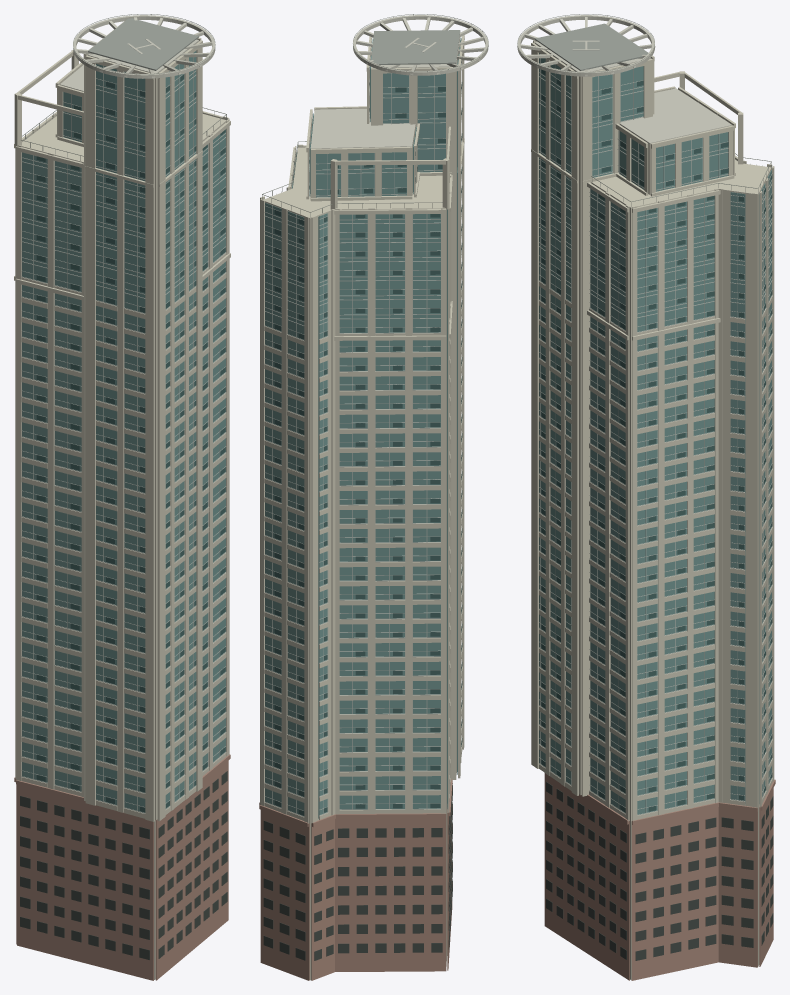
File: bespoke-mokdong-trapalace-eastern-b.glb
The picture shows the model from 3 angles, left to right: view 1: azimuth 30°, elevation 25°; view 2: azimuth 150°, elevation 25°; view 3: azimuth 270°, elevation 25°; orthographic projection. The views are drawn at different scales.
Visible parts, largest first — view 1: 이스턴_B_stone_and_green_window_bays002, 이스턴_B_stone_and_green_window_bays002_1, 이스턴_B_stone_and_green_window_bays002_4, 이스턴_B_stone_and_green_window_bays002_3, 이스턴_B_stone_and_green_window_bays002_2, 이스턴_B_stone_and_green_window_bays002_5, 이스턴_B_roofplan_body, 이스턴_B_stepped_crown_and_round_helipad002_1, 이스턴_B_stepped_crown_and_round_helipad002_2, 이스턴_B_stepped_crown_and_round_helipad002, 이스턴_B_stepped_crown_and_round_helipad002_3; view 2: 이스턴_B_stone_and_green_window_bays002, 이스턴_B_stone_and_green_window_bays002_1, 이스턴_B_stone_and_green_window_bays002_4, 이스턴_B_stone_and_green_window_bays002_3, 이스턴_B_roofplan_body, 이스턴_B_stone_and_green_window_bays002_5, 이스턴_B_stone_and_green_window_bays002_2, 이스턴_B_stepped_crown_and_round_helipad002_1, 이스턴_B_stepped_crown_and_round_helipad002_2, 이스턴_B_stepped_crown_and_round_helipad002, 이스턴_B_stepped_crown_and_round_helipad002_3; view 3: 이스턴_B_stone_and_green_window_bays002, 이스턴_B_stone_and_green_window_bays002_1, 이스턴_B_stone_and_green_window_bays002_4, 이스턴_B_stone_and_green_window_bays002_3, 이스턴_B_roofplan_body, 이스턴_B_stone_and_green_window_bays002_5, 이스턴_B_stone_and_green_window_bays002_2, 이스턴_B_stepped_crown_and_round_helipad002_1, 이스턴_B_stepped_crown_and_round_helipad002_2, 이스턴_B_stepped_crown_and_round_helipad002, 이스턴_B_stepped_crown_and_round_helipad002_3.
Part boxes in pixels (<box>): 이스턴_B_stone_and_green_window_bays002: <box>14,21,230,821</box>; 이스턴_B_stone_and_green_window_bays002_1: <box>22,51,225,812</box>; 이스턴_B_stone_and_green_window_bays002_4: <box>14,754,230,980</box>; 이스턴_B_stone_and_green_window_bays002_3: <box>21,53,226,813</box>; 이스턴_B_stone_and_green_window_bays002_2: <box>36,69,225,812</box>; 이스턴_B_stone_and_green_window_bays002_5: <box>20,771,227,959</box>; 이스턴_B_roofplan_body: <box>22,42,226,979</box>; 이스턴_B_stepped_crown_and_round_helipad002_1: <box>60,15,215,91</box>; 이스턴_B_stepped_crown_and_round_helipad002_2: <box>88,18,198,70</box>; 이스턴_B_stepped_crown_and_round_helipad002: <box>14,50,83,146</box>; 이스턴_B_stepped_crown_and_round_helipad002_3: <box>21,14,226,160</box>; 이스턴_B_stone_and_green_window_bays002: <box>260,35,464,823</box>; 이스턴_B_stone_and_green_window_bays002_1: <box>265,38,461,818</box>; 이스턴_B_stone_and_green_window_bays002_4: <box>259,779,452,980</box>; 이스턴_B_stone_and_green_window_bays002_3: <box>264,37,462,819</box>; 이스턴_B_roofplan_body: <box>263,37,460,980</box>; 이스턴_B_stone_and_green_window_bays002_5: <box>263,783,452,960</box>; 이스턴_B_stone_and_green_window_bays002_2: <box>274,61,462,815</box>; 이스턴_B_stepped_crown_and_round_helipad002_1: <box>310,15,488,148</box>; 이스턴_B_stepped_crown_and_round_helipad002_2: <box>371,30,460,64</box>; 이스턴_B_stepped_crown_and_round_helipad002: <box>330,126,450,209</box>; 이스턴_B_stepped_crown_and_round_helipad002_3: <box>262,14,488,217</box>; 이스턴_B_stone_and_green_window_bays002: <box>531,40,774,821</box>; 이스턴_B_stone_and_green_window_bays002_1: <box>539,53,771,814</box>; 이스턴_B_stone_and_green_window_bays002_4: <box>544,773,775,980</box>; 이스턴_B_stone_and_green_window_bays002_3: <box>539,54,772,815</box>; 이스턴_B_roofplan_body: <box>550,65,771,979</box>; 이스턴_B_stone_and_green_window_bays002_5: <box>546,782,773,960</box>; 이스턴_B_stone_and_green_window_bays002_2: <box>541,70,772,812</box>; 이스턴_B_stepped_crown_and_round_helipad002_1: <box>517,15,732,144</box>; 이스턴_B_stepped_crown_and_round_helipad002_2: <box>535,23,648,70</box>; 이스턴_B_stepped_crown_and_round_helipad002: <box>654,71,743,164</box>; 이스턴_B_stepped_crown_and_round_helipad002_3: <box>517,14,771,206</box>.
Bounding box in the file's own units: 34.42 × 160 × 42.09.
